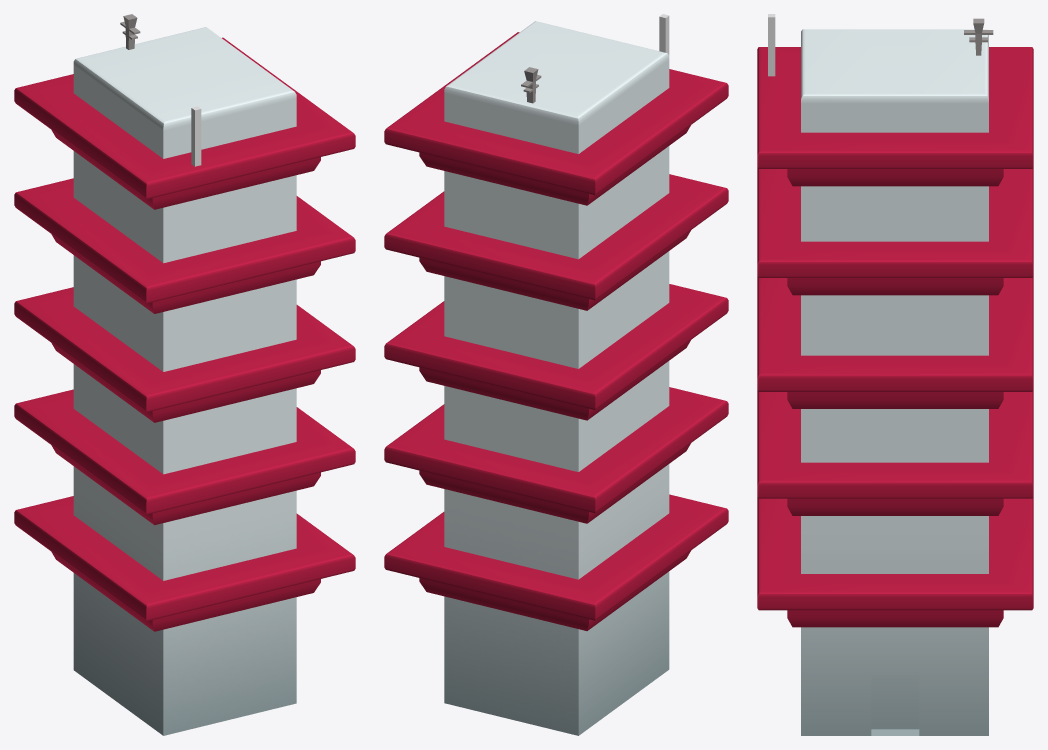
The model's file is BuildingTall_01.fbx.
3 renders of one model, left to right at view 1: azimuth 30°, elevation 25°; view 2: azimuth 150°, elevation 25°; view 3: azimuth 270°, elevation 25°, orthographic. The views are drawn at different scales.
Visible parts, largest first — view 1: polySurface752; view 2: polySurface752; view 3: polySurface752.
Part boxes in pixels (bbox=[...]): polySurface752: bbox=[14, 14, 355, 735]; polySurface752: bbox=[384, 14, 728, 735]; polySurface752: bbox=[757, 14, 1033, 735].
Bounding box in the file's own units: 5.56 × 16.36 × 6.08.
